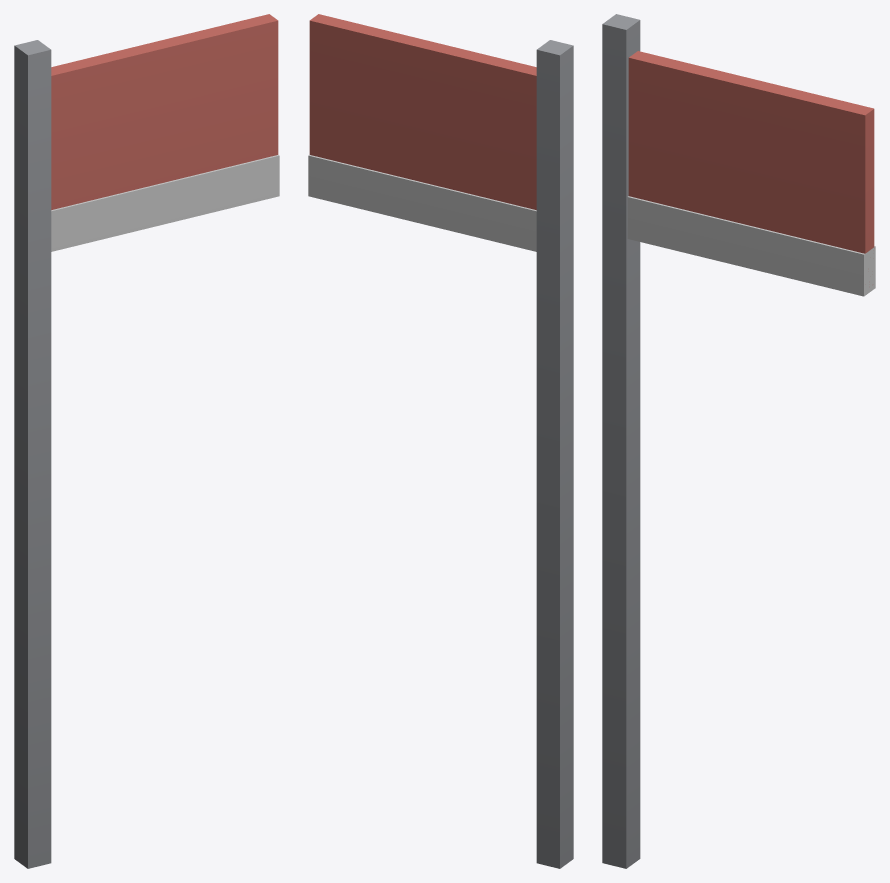
The model's file is flag.glb.
3 views of the same model, side by side, from view 1: azimuth 30°, elevation 25°; view 2: azimuth 150°, elevation 25°; view 3: azimuth 330°, elevation 25° (orthographic). The views are drawn at different scales.
Visible parts, largest first — view 1: root; view 2: root; view 3: root.
Boxes of the visible parts, x1,y1,x2,y2 form: root: [14, 14, 279, 868]; root: [308, 14, 573, 868]; root: [602, 14, 875, 868].
Size of the model in its own units: 0.65 by 2 by 0.06.
